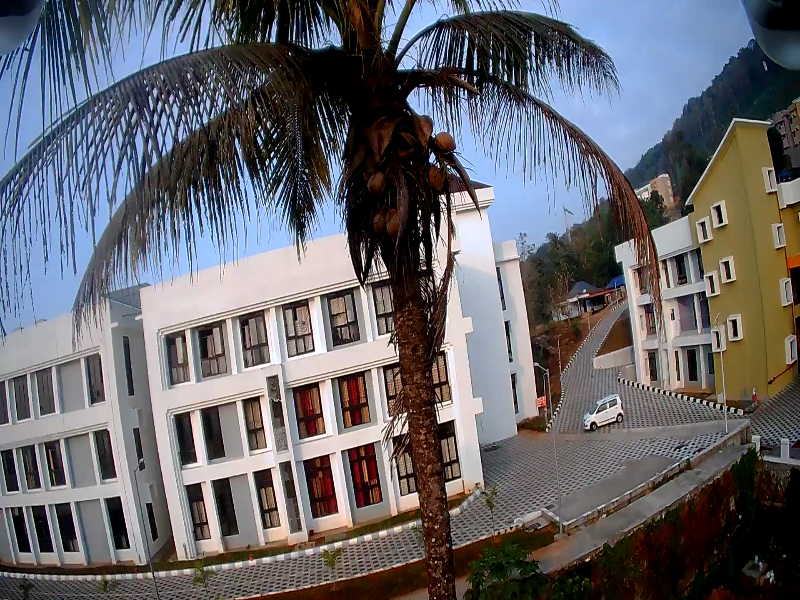coconut: (435, 131, 457, 153), (384, 212, 400, 238), (425, 170, 443, 191), (370, 209, 382, 224), (368, 171, 378, 188)
